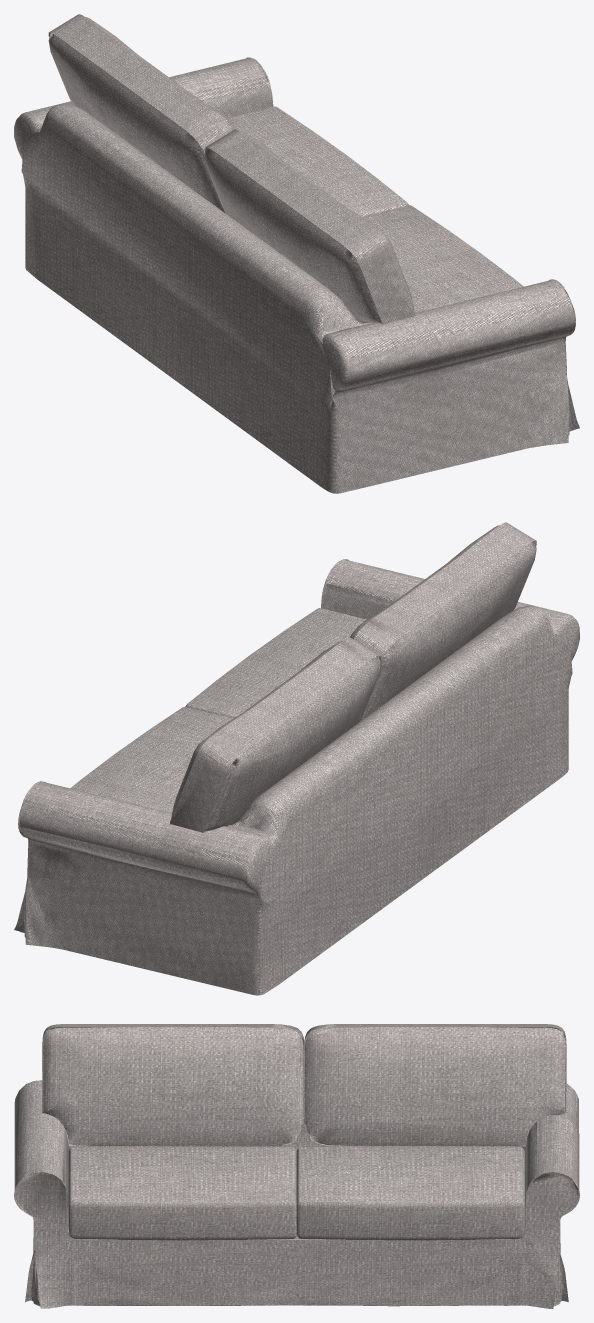
File: Couch 1.FBX
3 views of the same model, one above another, from view 1: azimuth 30°, elevation 25°; view 2: azimuth 150°, elevation 25°; view 3: azimuth 270°, elevation 25° (orthographic). The views are drawn at different scales.
Visible parts, largest first — view 1: couch 1; view 2: couch 1; view 3: couch 1.
Boxes of the visible parts, <box> form: couch 1: <box>14,14,579,493</box>; couch 1: <box>14,522,579,995</box>; couch 1: <box>14,1024,579,1308</box>.
Bounding box in the file's own units: 115 × 106 × 266.
1 material, 1 textured.
